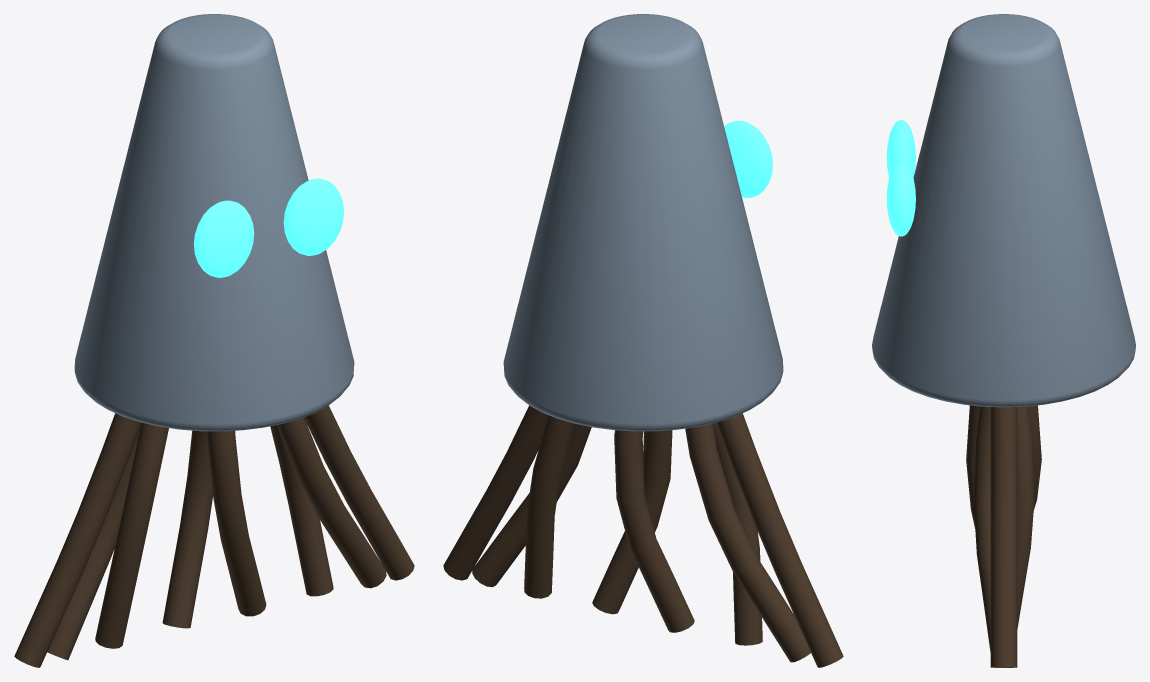
File: aquatic_v5.glb
3 renders of one model, left to right at view 1: azimuth 30°, elevation 25°; view 2: azimuth 150°, elevation 25°; view 3: azimuth 270°, elevation 25°, orthographic. The views are drawn at different scales.
Parts seen in each view (by area): view 1: SQUID_MANTLE_PRIMARY, SQUID_ARM_SECONDARY.004, SQUID_ARM_SECONDARY.005, SQUID_ARM_SECONDARY.006, SQUID_ARM_SECONDARY.007, SQUID_ARM_SECONDARY.002, SQUID_ARM_SECONDARY, SQUID_ARM_SECONDARY.003, SQUID_ARM_SECONDARY.001, SQUID_EYE_EMISSIVE, SQUID_EYE_EMISSIVE.001; view 2: SQUID_MANTLE_PRIMARY, SQUID_ARM_SECONDARY.004, SQUID_ARM_SECONDARY.003, SQUID_ARM_SECONDARY.002, SQUID_ARM_SECONDARY.001, SQUID_ARM_SECONDARY, SQUID_ARM_SECONDARY.006, SQUID_ARM_SECONDARY.007, SQUID_ARM_SECONDARY.005, SQUID_EYE_EMISSIVE; view 3: SQUID_MANTLE_PRIMARY, SQUID_ARM_SECONDARY, SQUID_ARM_SECONDARY.007, SQUID_ARM_SECONDARY.001, SQUID_EYE_EMISSIVE.001, SQUID_EYE_EMISSIVE, SQUID_ARM_SECONDARY.006, SQUID_ARM_SECONDARY.002.
Boxes of the visible parts, left/top/right/bottom form: SQUID_MANTLE_PRIMARY: left=74, top=14, right=354, bottom=431; SQUID_ARM_SECONDARY.004: left=14, top=413, right=141, bottom=667; SQUID_ARM_SECONDARY.005: left=95, top=422, right=168, bottom=648; SQUID_ARM_SECONDARY.006: left=206, top=430, right=266, bottom=616; SQUID_ARM_SECONDARY.007: left=276, top=417, right=386, bottom=588; SQUID_ARM_SECONDARY.002: left=162, top=430, right=212, bottom=628; SQUID_ARM_SECONDARY: left=304, top=405, right=414, bottom=580; SQUID_ARM_SECONDARY.003: left=47, top=427, right=140, bottom=660; SQUID_ARM_SECONDARY.001: left=270, top=425, right=333, bottom=596; SQUID_EYE_EMISSIVE: left=194, top=200, right=254, bottom=277; SQUID_EYE_EMISSIVE.001: left=283, top=178, right=343, bottom=255; SQUID_MANTLE_PRIMARY: left=503, top=14, right=783, bottom=431; SQUID_ARM_SECONDARY.004: left=716, top=413, right=843, bottom=667; SQUID_ARM_SECONDARY.003: left=685, top=423, right=810, bottom=662; SQUID_ARM_SECONDARY.002: left=614, top=430, right=694, bottom=632; SQUID_ARM_SECONDARY.001: left=524, top=415, right=575, bottom=598; SQUID_ARM_SECONDARY: left=443, top=405, right=548, bottom=580; SQUID_ARM_SECONDARY.006: left=592, top=430, right=672, bottom=614; SQUID_ARM_SECONDARY.007: left=472, top=424, right=591, bottom=587; SQUID_ARM_SECONDARY.005: left=713, top=422, right=762, bottom=645; SQUID_EYE_EMISSIVE: left=724, top=120, right=772, bottom=197; SQUID_MANTLE_PRIMARY: left=872, top=14, right=1135, bottom=407; SQUID_ARM_SECONDARY: left=990, top=407, right=1017, bottom=667; SQUID_ARM_SECONDARY.007: left=973, top=406, right=990, bottom=652; SQUID_ARM_SECONDARY.001: left=1017, top=406, right=1034, bottom=628; SQUID_EYE_EMISSIVE.001: left=886, top=161, right=915, bottom=236; SQUID_EYE_EMISSIVE: left=886, top=120, right=915, bottom=177; SQUID_ARM_SECONDARY.006: left=966, top=405, right=980, bottom=528; SQUID_ARM_SECONDARY.002: left=1027, top=405, right=1041, bottom=510.
Size of the model in its own units: 1.38 by 1.95 by 0.8425.
